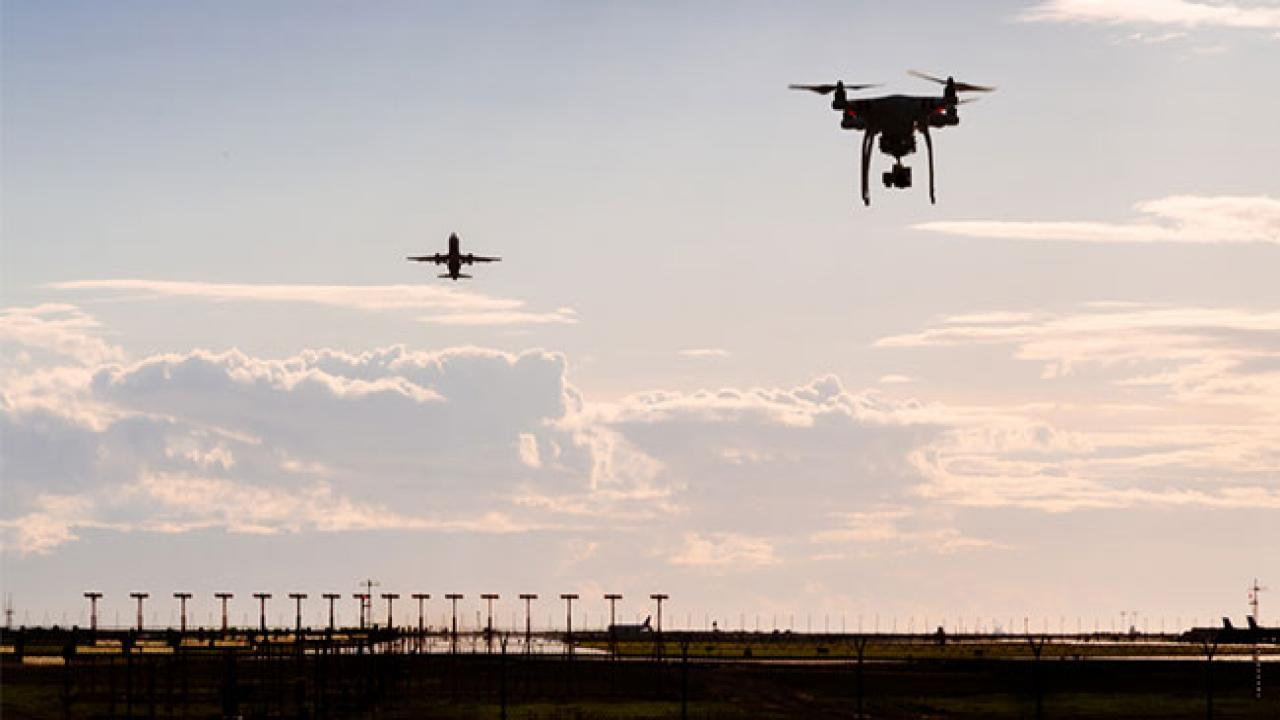Airplane: (390, 211, 518, 300)
Drone: (771, 55, 1011, 218)
